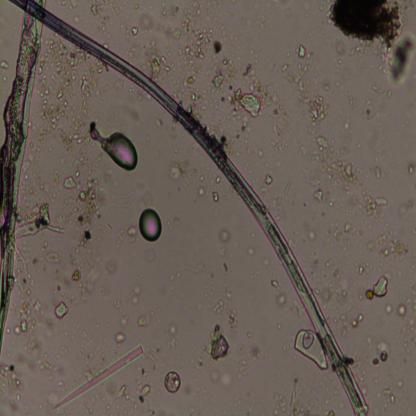Air bubble: (93, 126, 139, 171), (137, 208, 163, 242)
Background material: (326, 0, 416, 85), (35, 41, 91, 174), (50, 346, 144, 413), (312, 136, 387, 216), (64, 177, 102, 292), (286, 44, 328, 129), (173, 3, 223, 62), (317, 266, 363, 330), (215, 113, 264, 157), (230, 81, 284, 118), (173, 61, 208, 107), (294, 325, 327, 373), (270, 168, 301, 218), (16, 204, 62, 236), (342, 83, 389, 114), (14, 289, 44, 335), (118, 284, 146, 332), (368, 230, 414, 257), (203, 324, 233, 365), (397, 298, 416, 362), (235, 336, 267, 374), (212, 289, 240, 329), (272, 389, 313, 416), (0, 364, 25, 404), (24, 157, 44, 200), (165, 161, 196, 188), (134, 12, 161, 38), (328, 217, 358, 240), (364, 273, 390, 299), (208, 71, 232, 98), (209, 365, 236, 388), (370, 339, 392, 367), (118, 385, 152, 403), (148, 53, 172, 76), (236, 56, 258, 80), (382, 379, 404, 403), (270, 277, 286, 309), (41, 247, 62, 268), (106, 76, 130, 94), (164, 371, 181, 396), (117, 224, 138, 244), (210, 172, 223, 204), (166, 322, 180, 350), (340, 111, 354, 138), (185, 264, 210, 279), (91, 1, 110, 20), (384, 303, 407, 318), (53, 301, 70, 320), (167, 268, 191, 281), (143, 247, 159, 264), (198, 170, 208, 196), (269, 138, 285, 153), (0, 58, 10, 81), (129, 46, 145, 60), (306, 226, 319, 242), (147, 346, 159, 363), (106, 255, 117, 273), (245, 244, 260, 256), (220, 229, 232, 244), (154, 115, 166, 128), (115, 331, 126, 345), (406, 161, 416, 176), (130, 22, 140, 36), (264, 175, 274, 186), (260, 256, 268, 269)
Cellulose filter fibre: (0, 3, 46, 350)
Microfibre: (11, 1, 369, 415)
